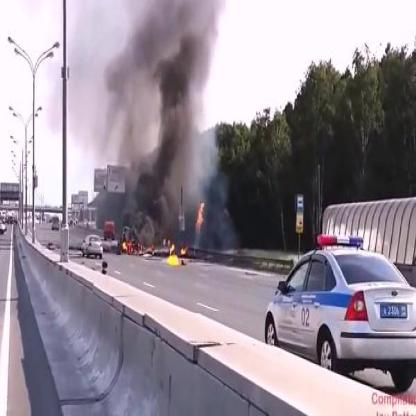fire: (162, 238, 188, 267), (121, 236, 155, 256), (194, 198, 207, 234)
